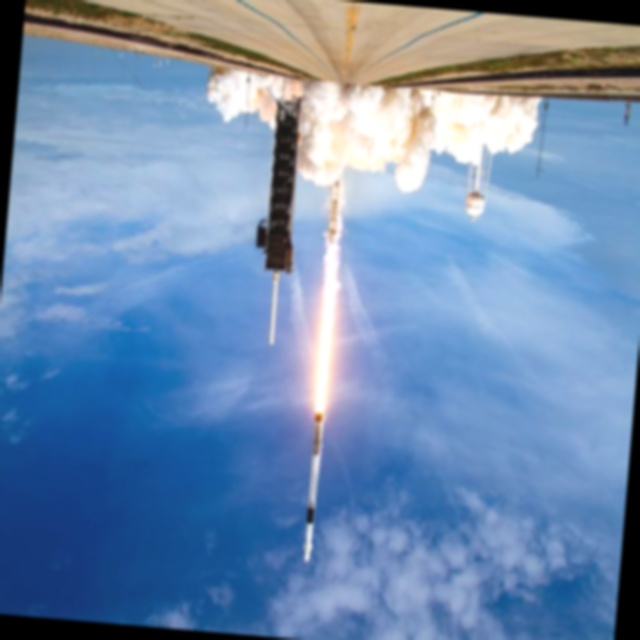large_debris: (1, 88, 248, 403), (251, 457, 583, 640)
medium_debris: (307, 244, 343, 421)
rocket: (292, 422, 326, 578)
